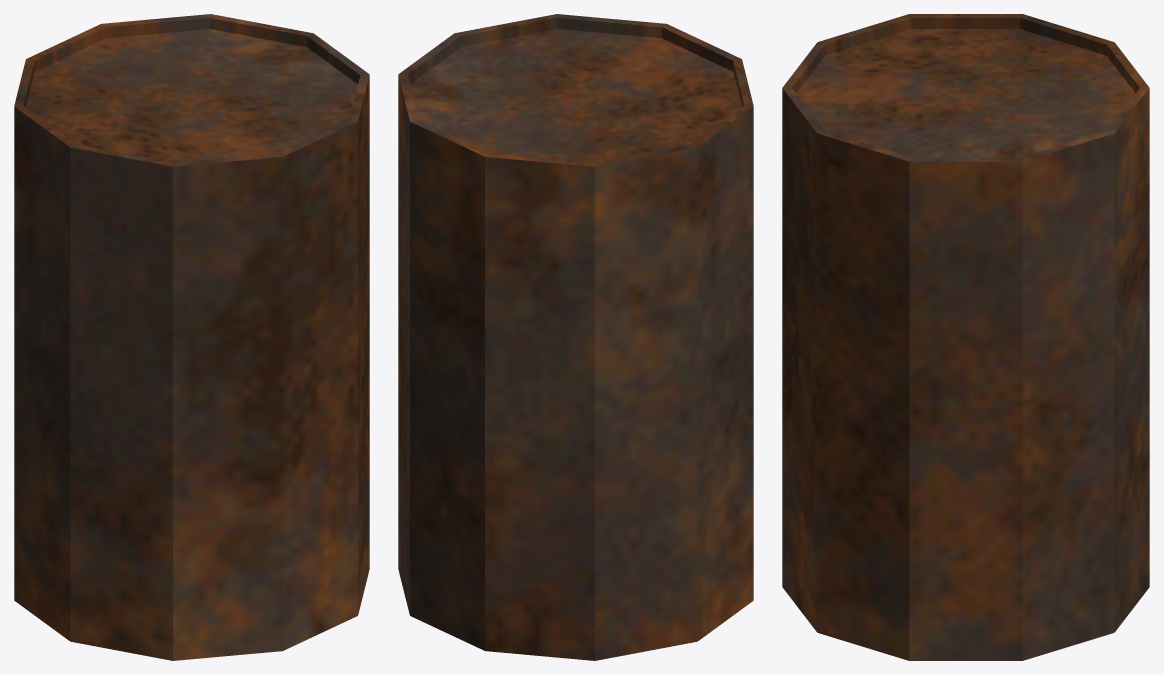
Rendered from SM_Barrel_05.fbx.
The picture shows the model from 3 angles, left to right: view 1: azimuth 30°, elevation 25°; view 2: azimuth 150°, elevation 25°; view 3: azimuth 270°, elevation 25°; orthographic projection.
Visible parts, largest first — view 1: SM_Barrel_05; view 2: SM_Barrel_05; view 3: SM_Barrel_05.
Part boxes in pixels (x1,y1,x2,y2): SM_Barrel_05: (14, 14, 369, 660); SM_Barrel_05: (398, 14, 753, 660); SM_Barrel_05: (782, 14, 1149, 660).
Bounding box in the file's own units: 114 × 180 × 120.
